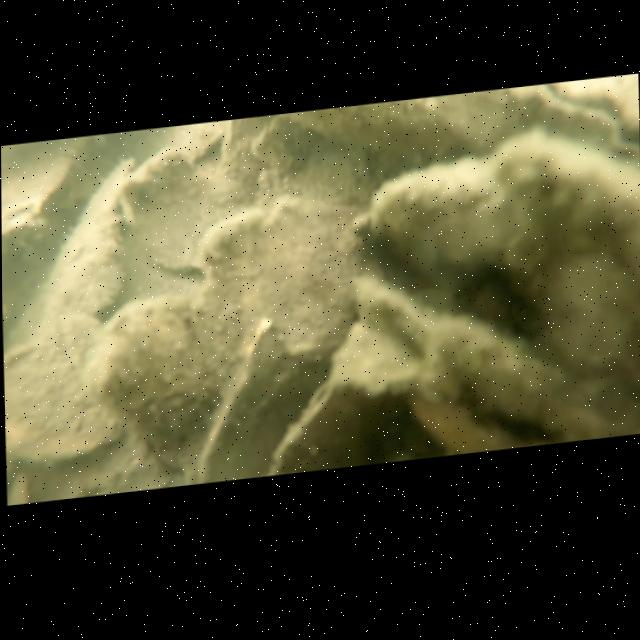Oyster-Closed: (508, 73, 640, 168)
Oyster-Indeterminate: (74, 185, 383, 497), (2, 301, 123, 476)
Oyster-Open: (345, 114, 640, 466), (188, 306, 361, 484)
